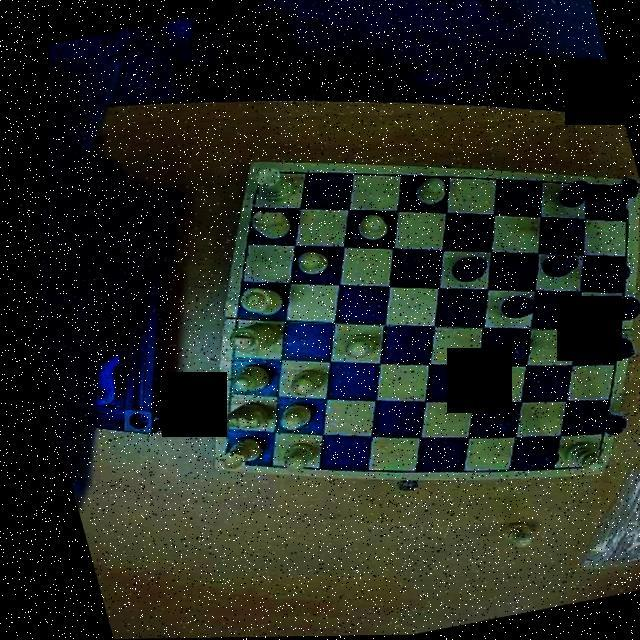chess-table-corners: (237, 156, 284, 200), (196, 432, 243, 474), (594, 176, 640, 216), (567, 444, 610, 478)
